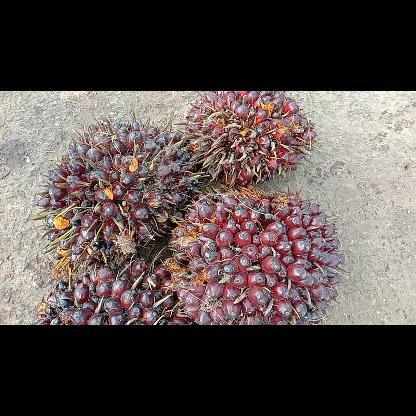Kurang masak: (29, 111, 202, 265), (180, 92, 320, 190), (30, 254, 192, 324)
TBS masak: (164, 182, 348, 324)
